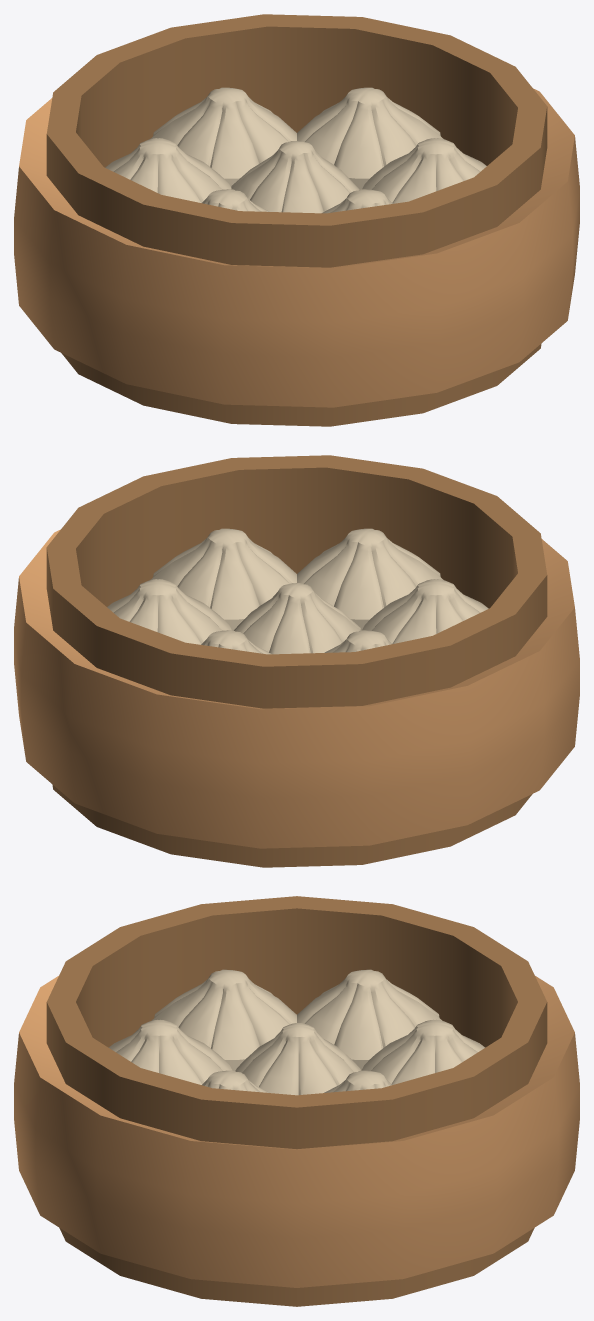
Rendered from Chukaman Steamer.glb.
3 renders of one model, top to bottom at view 1: azimuth 30°, elevation 25°; view 2: azimuth 150°, elevation 25°; view 3: azimuth 270°, elevation 25°, orthographic.
Visible parts, largest first — view 1: Environment_ChukamanSteamer; view 2: Environment_ChukamanSteamer; view 3: Environment_ChukamanSteamer.
Part boxes in pixels (box(x1,y1,x2,y2)): Environment_ChukamanSteamer: box(14, 14, 579, 426); Environment_ChukamanSteamer: box(14, 455, 579, 867); Environment_ChukamanSteamer: box(14, 896, 579, 1306).
Size of the model in its own units: 1.09 by 0.4241 by 1.09.
Materials: 1 (1 with a texture image).
